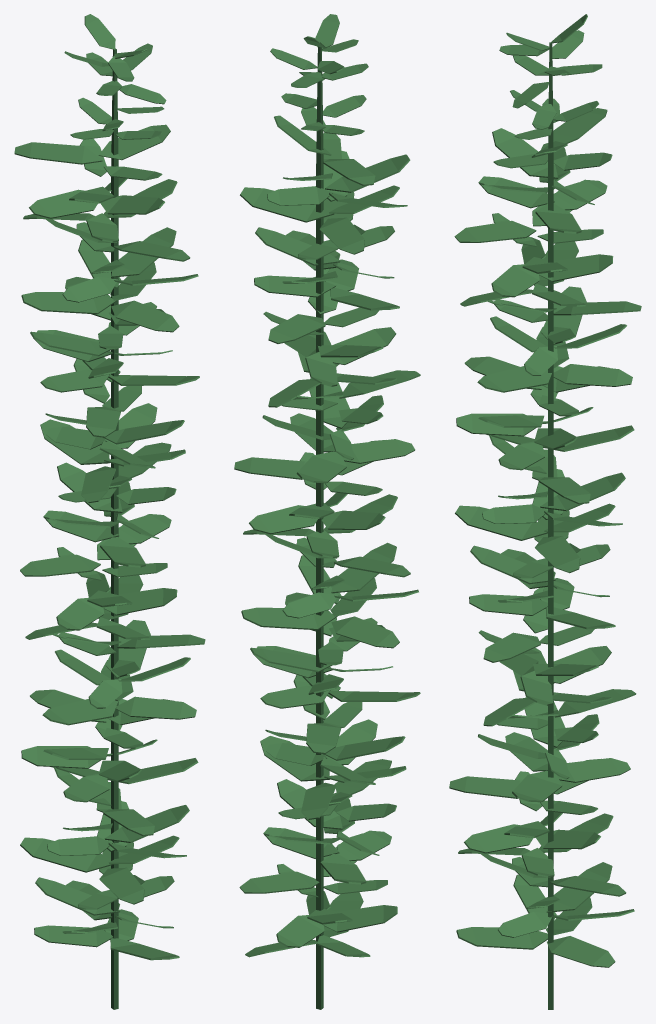
The model's file is Seaweed_007.glb.
3 renders of one model, left to right at view 1: azimuth 30°, elevation 25°; view 2: azimuth 150°, elevation 25°; view 3: azimuth 270°, elevation 25°, orthographic.
Visible parts, largest first — view 1: Seaweed_007; view 2: Seaweed_007; view 3: Seaweed_007.
Boxes of the visible parts, x1=… form: Seaweed_007: x1=14, y1=14, x2=205, y2=1009; Seaweed_007: x1=234, y1=14, x2=420, y2=1009; Seaweed_007: x1=449, y1=14, x2=641, y2=1009.
Bounding box in the file's own units: 1.03 × 6.03 × 1.06.
1 material, 1 textured.
